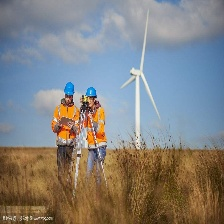helmet: (64, 81, 75, 97), (85, 87, 97, 100)
person: (52, 81, 82, 189), (85, 87, 108, 193)
vest: (51, 102, 78, 147), (85, 109, 106, 152)
